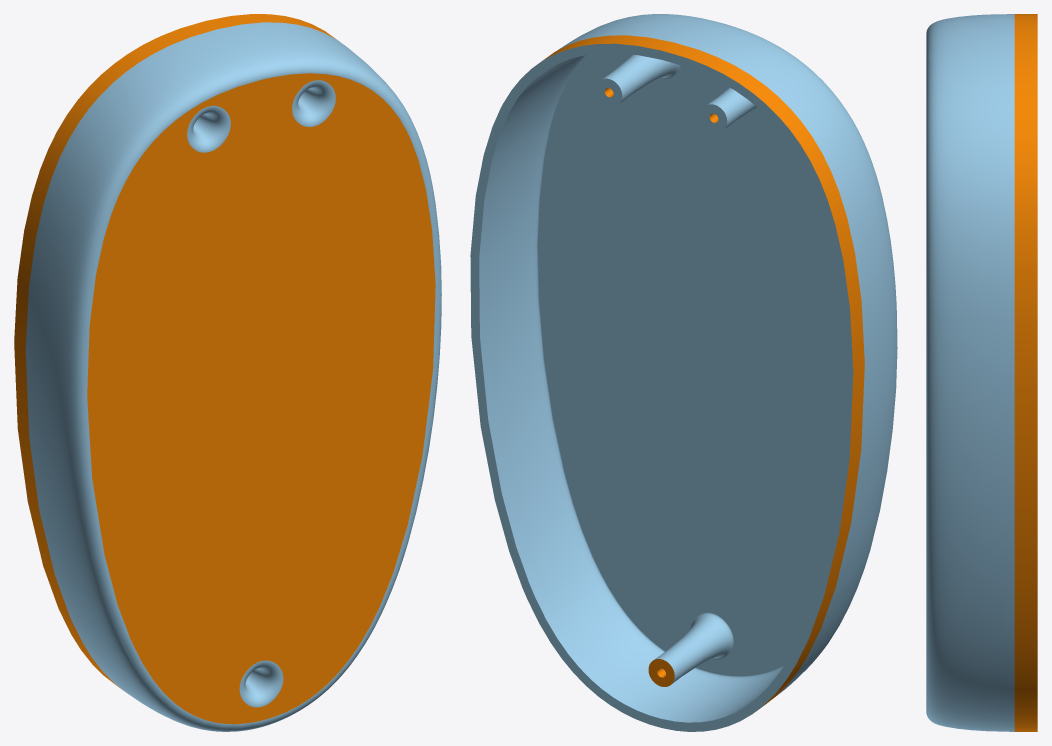
Rendered from comando-top-v0.01.obj.
3 views of the same model, side by side, from view 1: azimuth 30°, elevation 25°; view 2: azimuth 150°, elevation 25°; view 3: azimuth 270°, elevation 25° (orthographic).
Parts seen in each view (by area): view 1: mesh5, mesh11, mesh12, mesh15, mesh7, mesh8, mesh19, mesh2, mesh16, mesh13, mesh6; view 2: mesh33, mesh36, mesh11, mesh26, mesh35, mesh12, mesh34, mesh32, mesh31, mesh25, mesh15, mesh23 (+2 smaller); view 3: mesh7, mesh15, mesh14, mesh13, mesh6, mesh11, mesh9, mesh12.
Part boxes in pixels (x1,y1,x2,y2): mesh5: (87, 73, 435, 724); mesh11: (25, 29, 261, 667); mesh12: (14, 21, 216, 642); mesh15: (218, 22, 411, 130); mesh7: (380, 119, 441, 605); mesh8: (83, 643, 261, 731); mesh19: (239, 660, 283, 707); mesh2: (187, 105, 230, 152); mesh16: (292, 80, 335, 126); mesh13: (206, 14, 339, 41); mesh6: (259, 605, 384, 727); mesh33: (538, 53, 844, 675); mesh36: (491, 82, 592, 587); mesh11: (673, 20, 897, 655); mesh26: (470, 43, 853, 731); mesh35: (546, 557, 711, 710); mesh12: (662, 42, 864, 663); mesh34: (479, 106, 545, 595); mesh32: (673, 665, 783, 713); mesh31: (535, 588, 672, 718); mesh25: (665, 612, 733, 675); mesh15: (557, 14, 711, 50); mesh23: (612, 54, 680, 95); mesh7: (926, 214, 1014, 686); mesh15: (926, 38, 1014, 213); mesh14: (1014, 214, 1037, 686); mesh13: (1014, 38, 1037, 213); mesh6: (926, 671, 1014, 731); mesh11: (926, 14, 1014, 54); mesh9: (1014, 686, 1037, 731); mesh12: (1014, 14, 1037, 38).
Size of the model in its own units: 0.00438 by 0.0074 by 0.0011.
